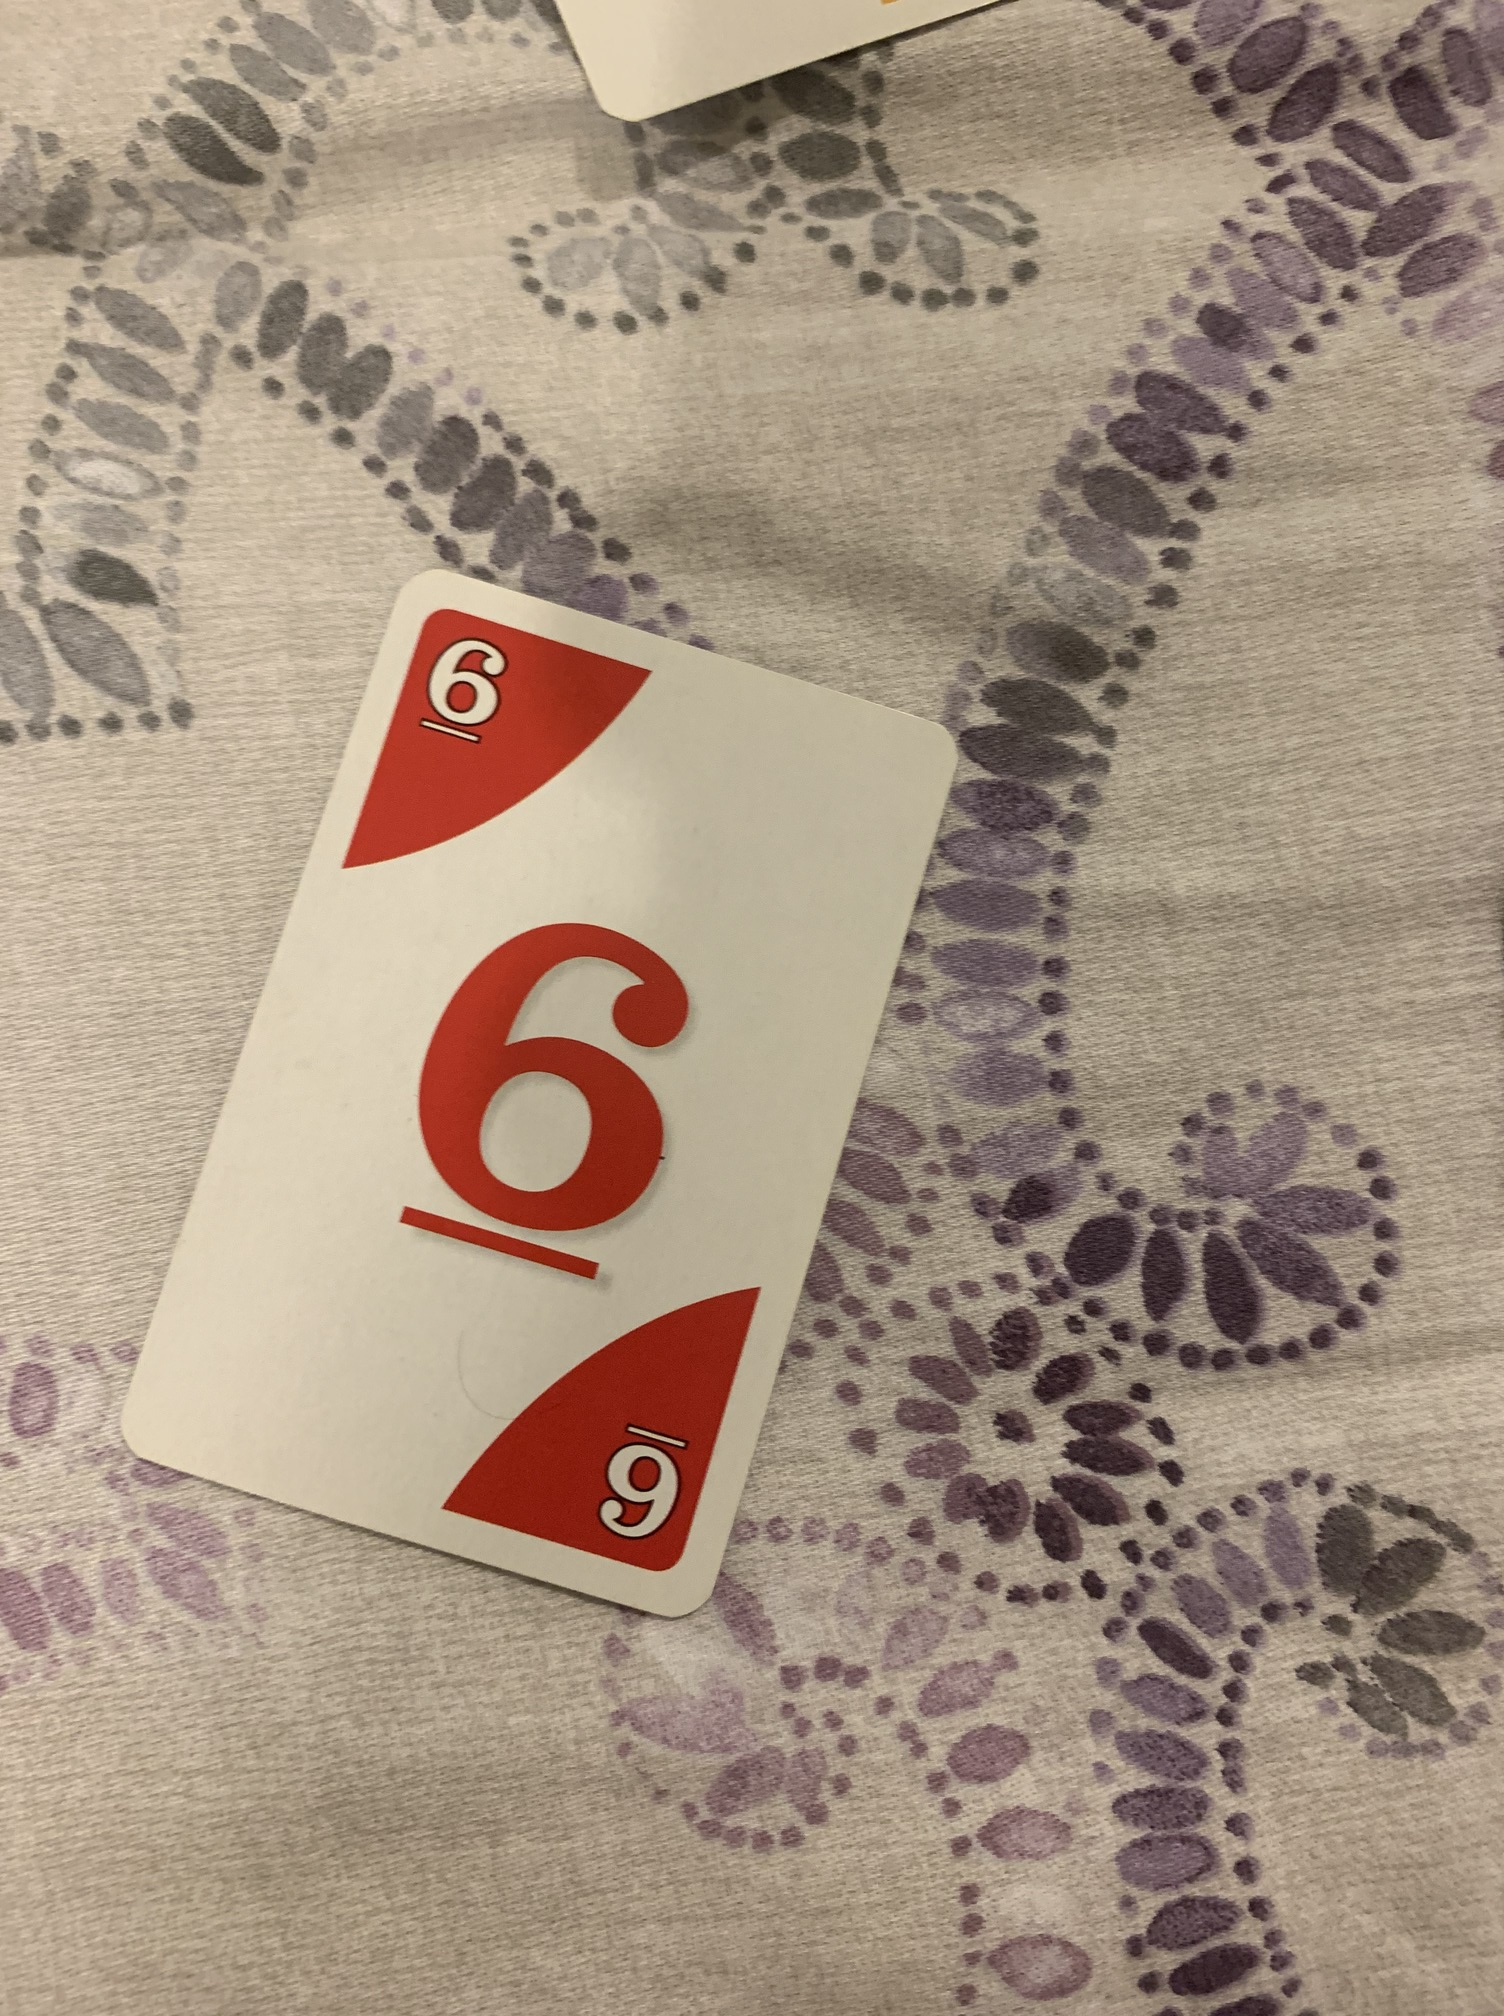six: (85, 562, 954, 1648)
